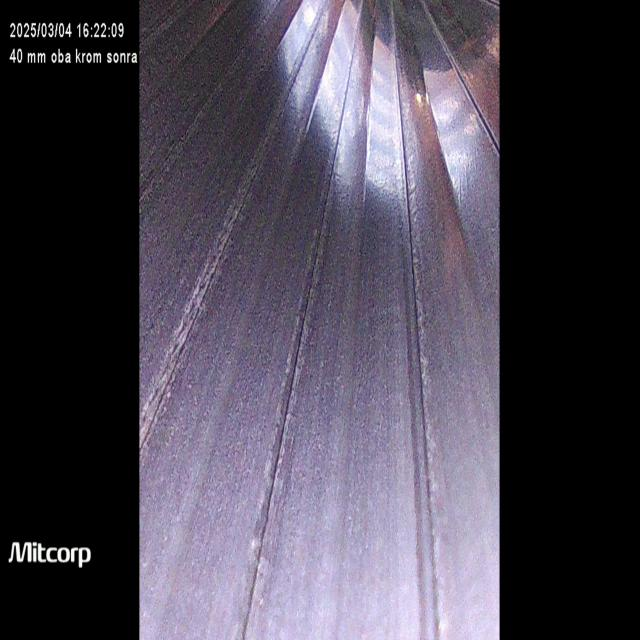hata_8.1: (233, 145, 351, 626), (137, 110, 285, 488), (398, 148, 460, 640)
